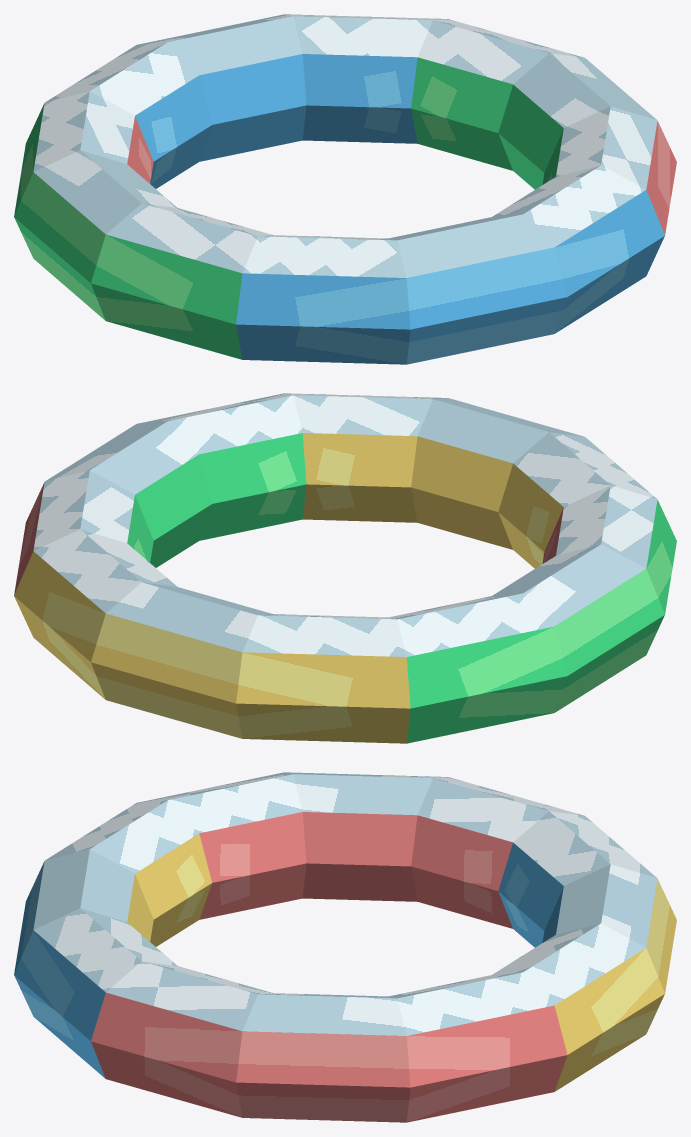
The model's file is ring_test.obj.
3 renders of one model, top to bottom at view 1: azimuth 30°, elevation 25°; view 2: azimuth 150°, elevation 25°; view 3: azimuth 270°, elevation 25°, orthographic.
Visible parts, largest first — view 1: torus; view 2: torus; view 3: torus.
Part boxes in pixels (x1,y1,x2,y2): torus: (14, 14, 676, 364); torus: (14, 393, 676, 743); torus: (14, 772, 676, 1122).
Size of the model in its own units: 1.27 by 0.2588 by 1.27.
